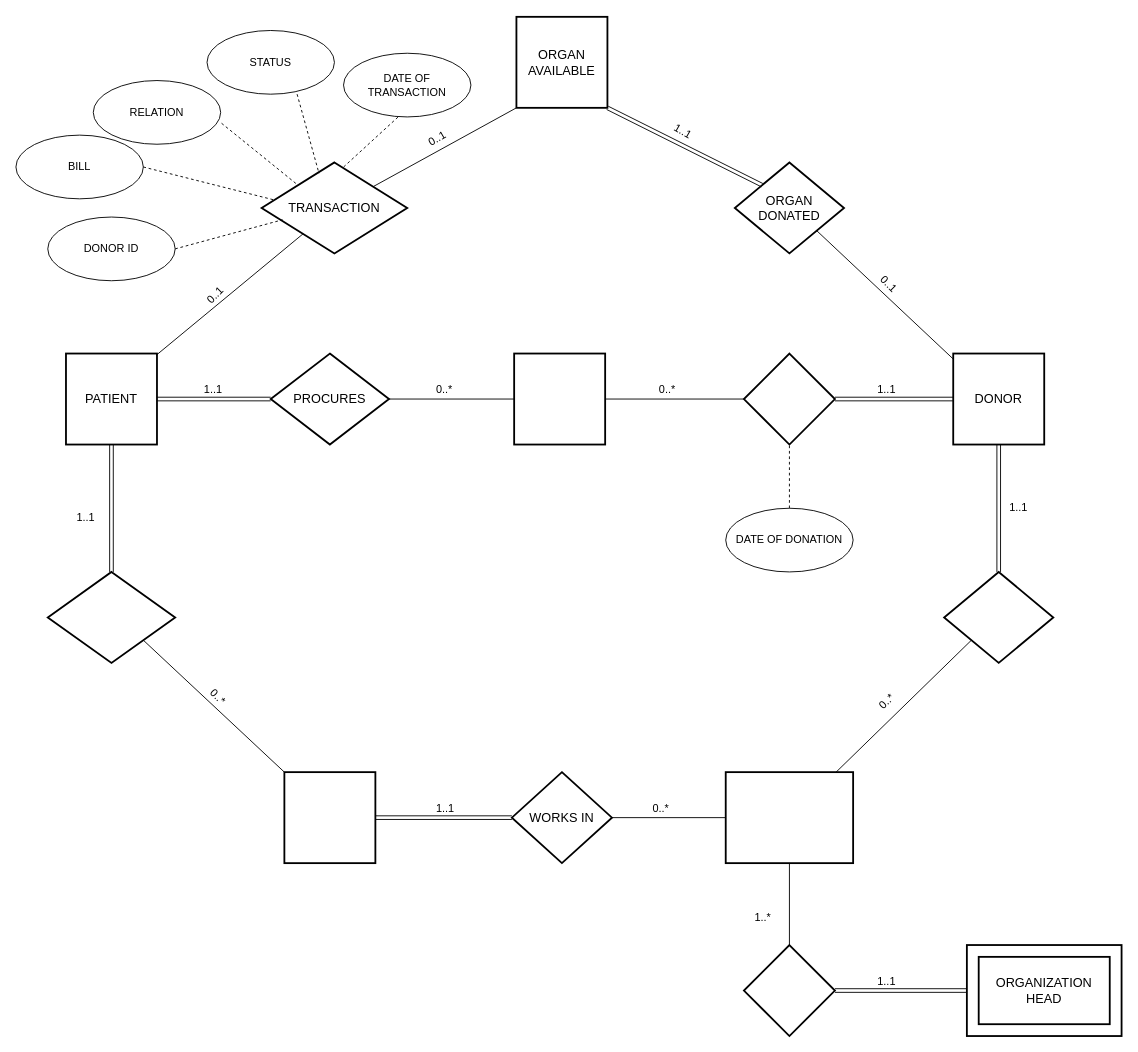
This 1138x1052 diagram has some shape labels left out. Each missing label, with the centre of its shape:
ATTENDED BY: the point at 111,617
DOCTOR: the point at 329,817
DONATES: the point at 789,398
HEADS: the point at 789,990
ORGANIZATION: the point at 789,817
REGISTERS: the point at 998,617
USER: the point at 559,398
